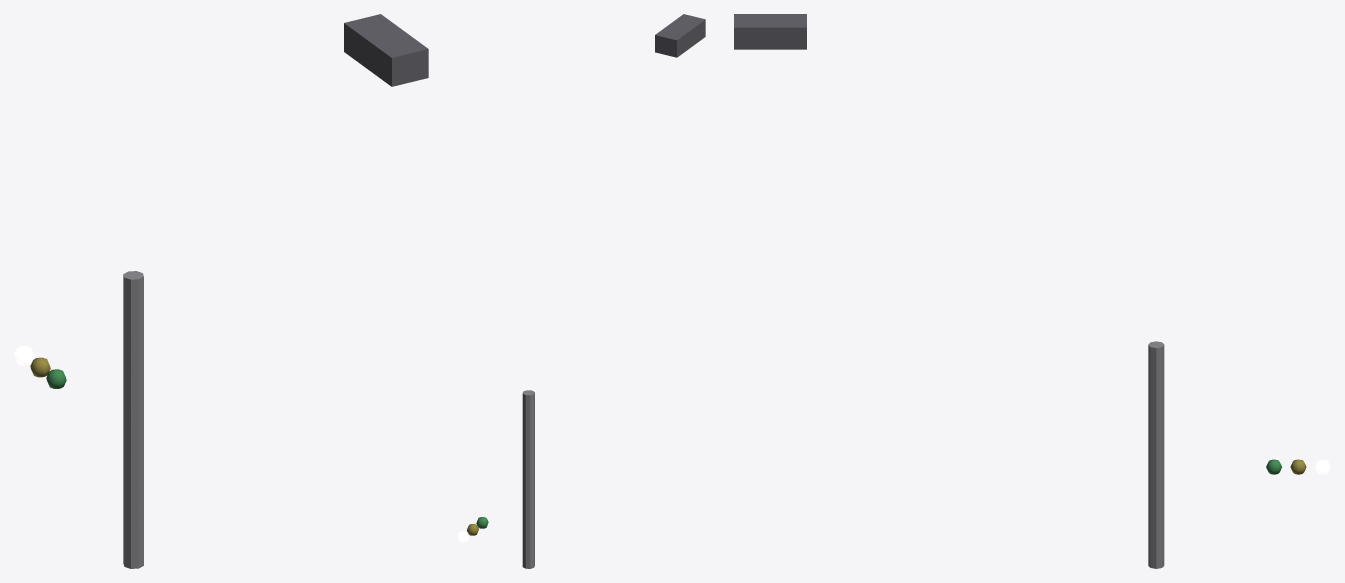
Rendered from TrafficLight.fbx.
3 views of the same model, side by side, from view 1: azimuth 30°, elevation 25°; view 2: azimuth 150°, elevation 25°; view 3: azimuth 270°, elevation 25° (orthographic). The views are drawn at different scales.
Visible parts, largest first — view 1: TrafficLight_North_Pole, TrafficLight_North_Housing; view 2: TrafficLight_North_Pole, TrafficLight_North_Housing; view 3: TrafficLight_North_Pole, TrafficLight_North_Housing.
Part boxes in pixels (x1,y1,x2,y2): TrafficLight_North_Pole: (123,271,143,568); TrafficLight_North_Housing: (344,14,428,86); TrafficLight_North_Pole: (522,390,534,568); TrafficLight_North_Housing: (655,14,705,57); TrafficLight_North_Pole: (1148,341,1164,568); TrafficLight_North_Housing: (734,14,806,49).
Bounding box in the file's own units: 0.16 × 2.96 × 2.94.
